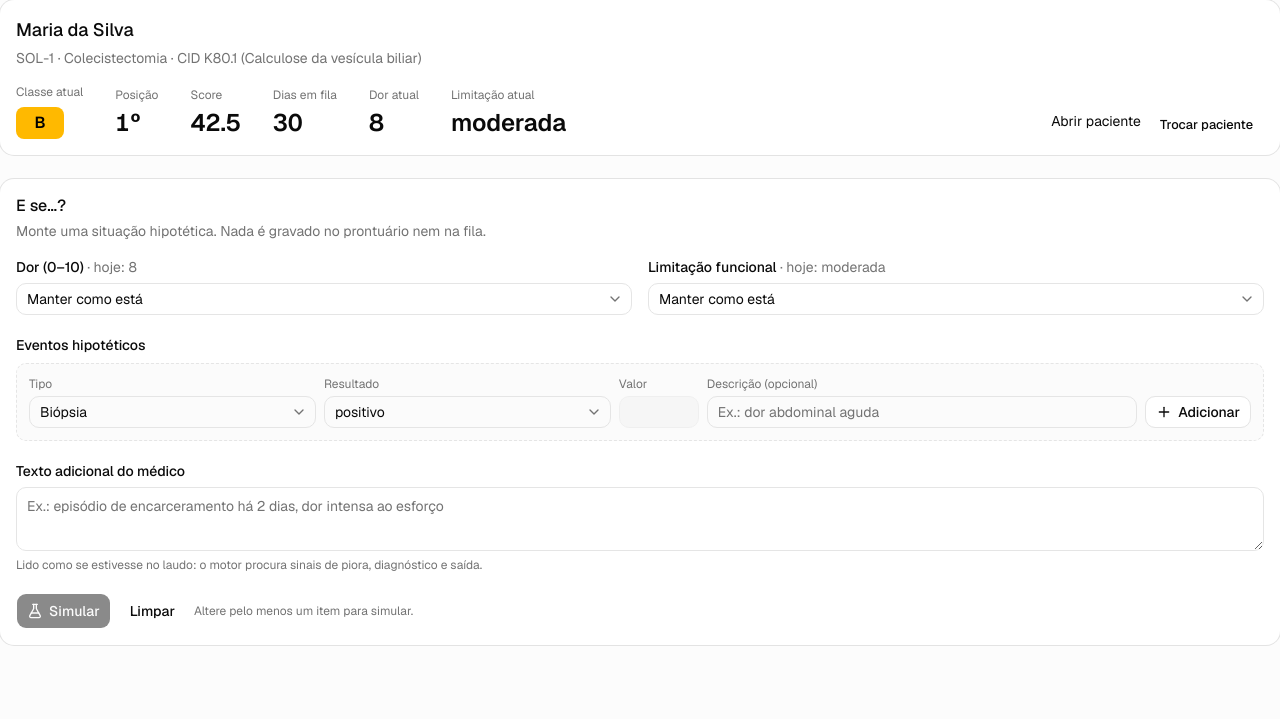
Scenario: SimuladorPaciente com paciente vindo da URL › Limpar apaga o resultado e volta a desabilitar o Simular
Expected: the text "Maria da Silva" is shown, [16, 18, 134, 41]
Type "texto" into the text box with placeholder "episódio de encarceramento" at [640, 519], box [16, 487, 1264, 551]
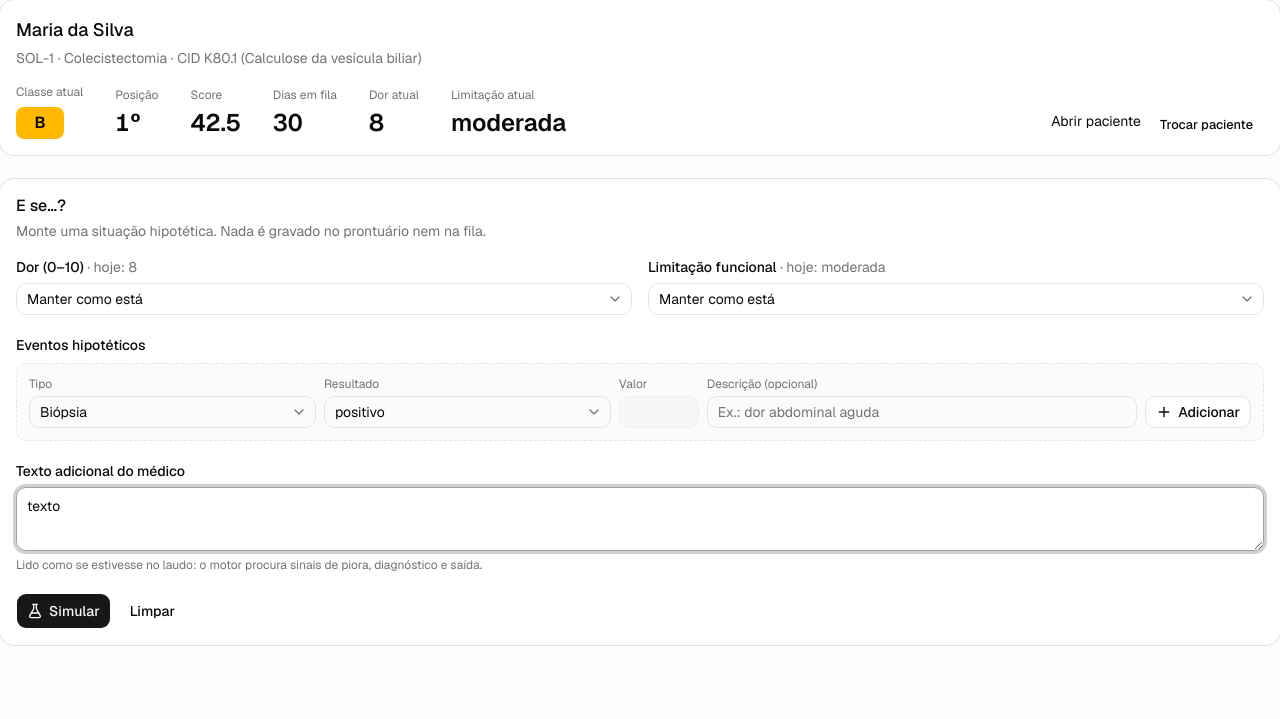
Click the button "Simular" at [63, 611], box [16, 593, 111, 629]
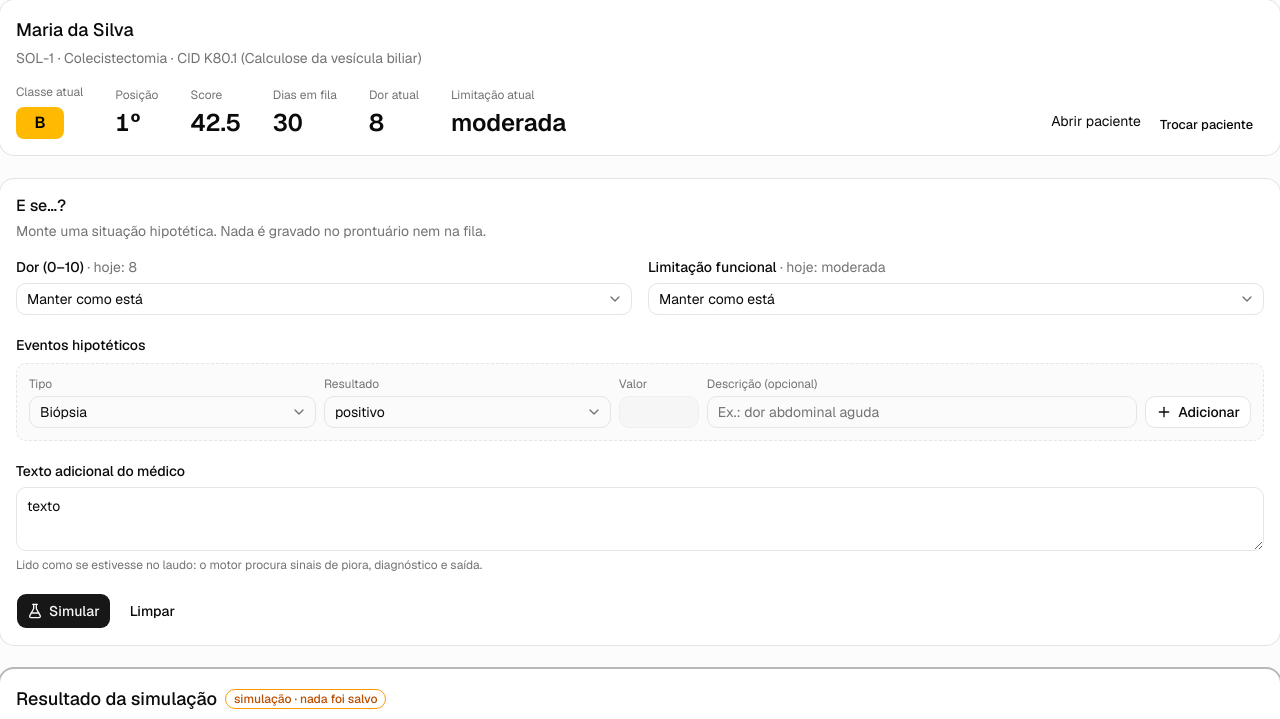
Now the text "Resultado da simulação" is shown, box [16, 687, 217, 710]
Click the button "Limpar" at [152, 611], box [119, 593, 186, 629]
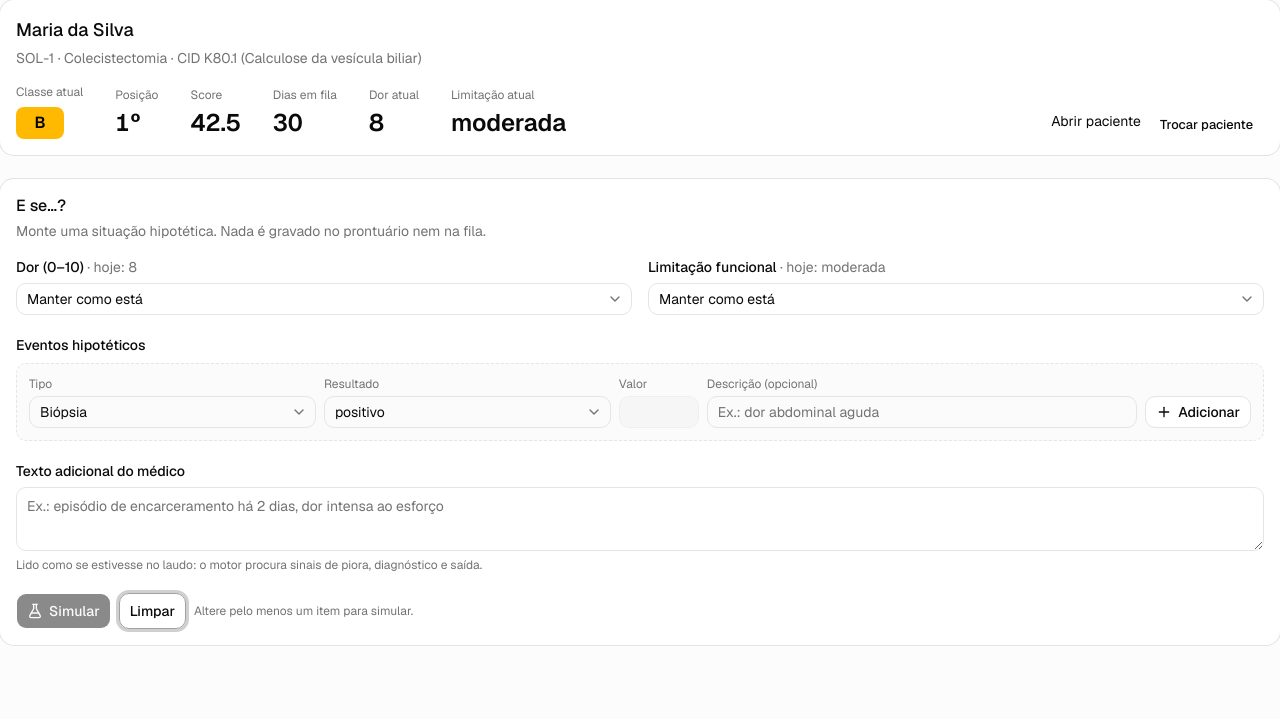
Now the text "Resultado da simulação" is gone
Now the button "Simular" is disabled, box [16, 593, 111, 629]
